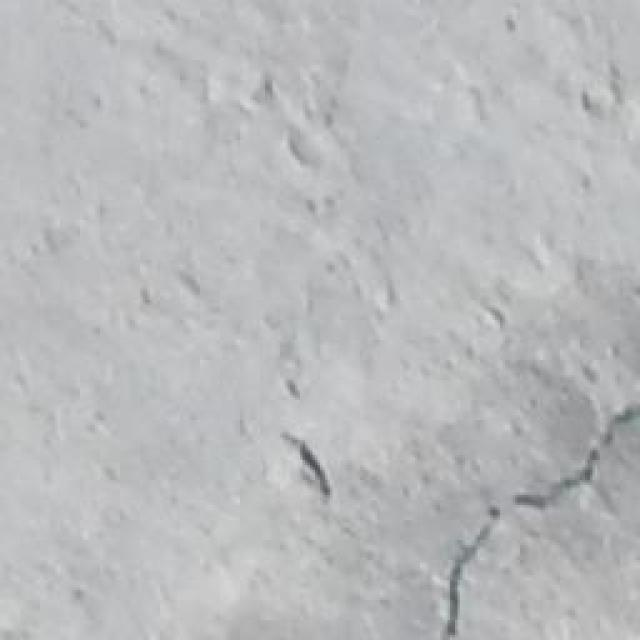concrete-crack: (439, 403, 638, 640), (275, 424, 336, 504)
